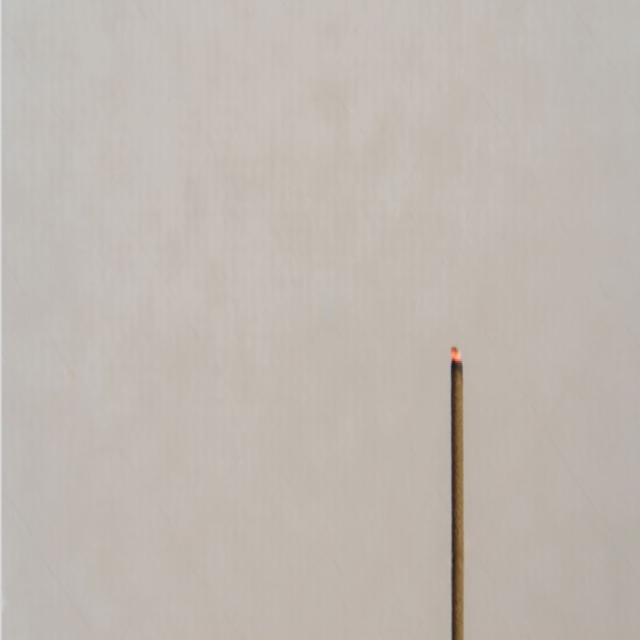Agarbatti: (440, 338, 492, 640)
